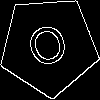O: (23, 21, 75, 78)
